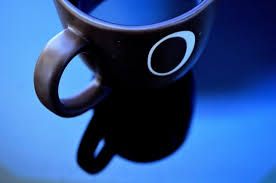cup: (28, 1, 238, 121)
